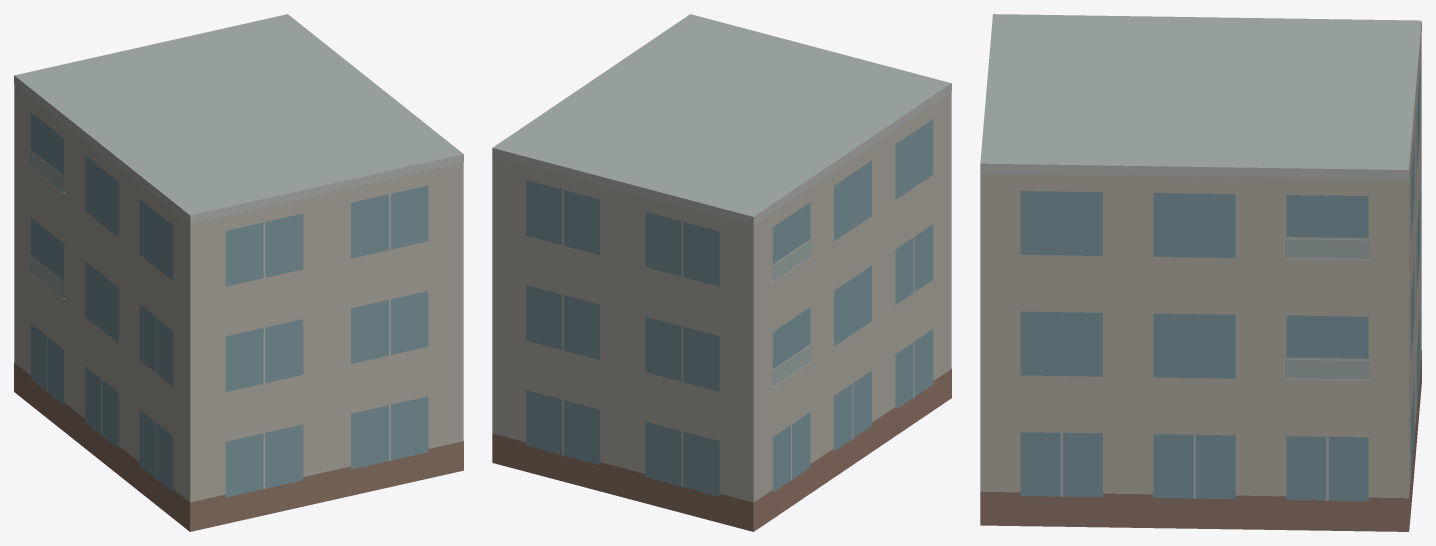
File: survey-upis-32686011.glb
3 views of the same model, side by side, from view 1: azimuth 30°, elevation 25°; view 2: azimuth 150°, elevation 25°; view 3: azimuth 270°, elevation 25° (orthographic). The views are drawn at different scales.
Parts seen in each view (by area): view 1: survey-upis-32686011.tmp; view 2: survey-upis-32686011.tmp; view 3: survey-upis-32686011.tmp.
Part boxes in pixels (<box>): survey-upis-32686011.tmp: <box>14,14,463,531</box>; survey-upis-32686011.tmp: <box>492,14,951,531</box>; survey-upis-32686011.tmp: <box>980,14,1421,531</box>.
Size of the model in its own units: 8.52 by 9.2 by 10.19.
